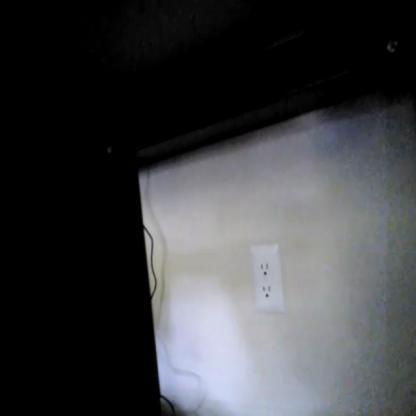OUTLET: (252, 244, 282, 310)
